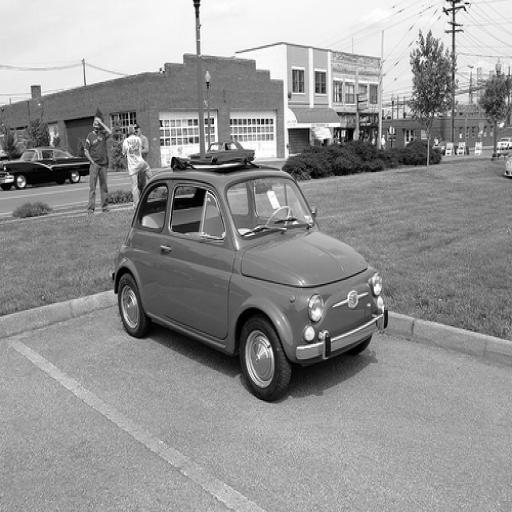person: (80, 116, 115, 217), (120, 124, 154, 209), (132, 123, 148, 195)
